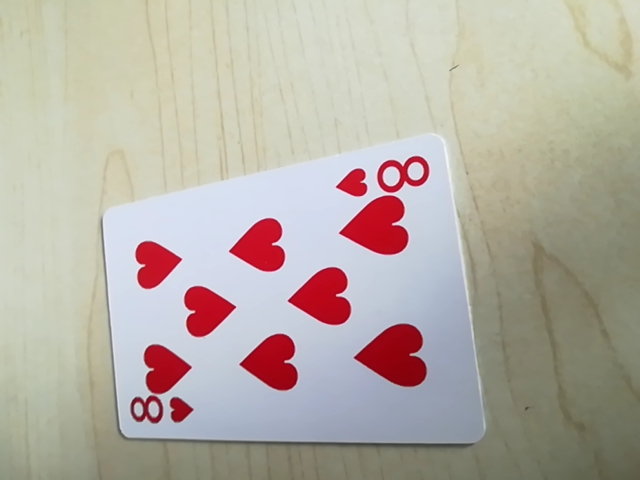hx 8: (333, 151, 435, 201), (124, 392, 195, 435)
